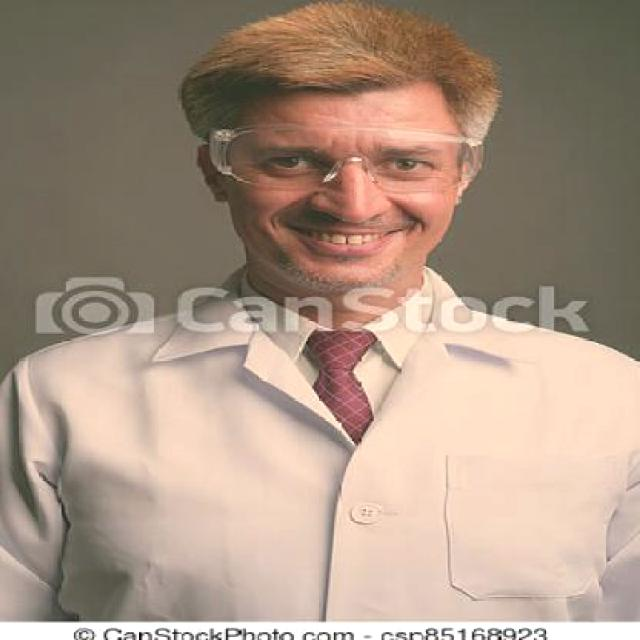face_nomask: (234, 125, 448, 262)
glasses: (201, 120, 485, 198)
head_nohelmet: (185, 4, 507, 119)
person: (4, 4, 619, 619)
